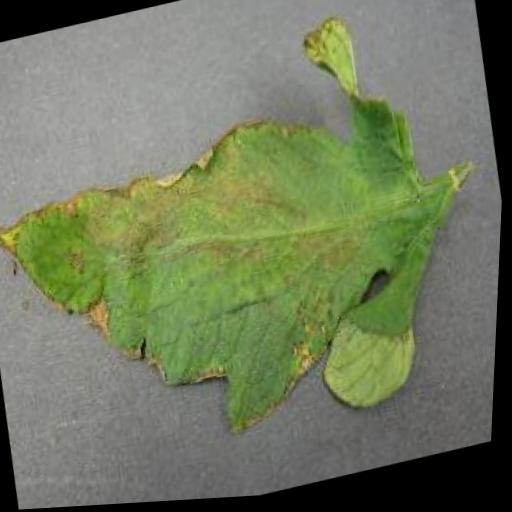Bacterial Spot: (0, 0, 493, 491)
